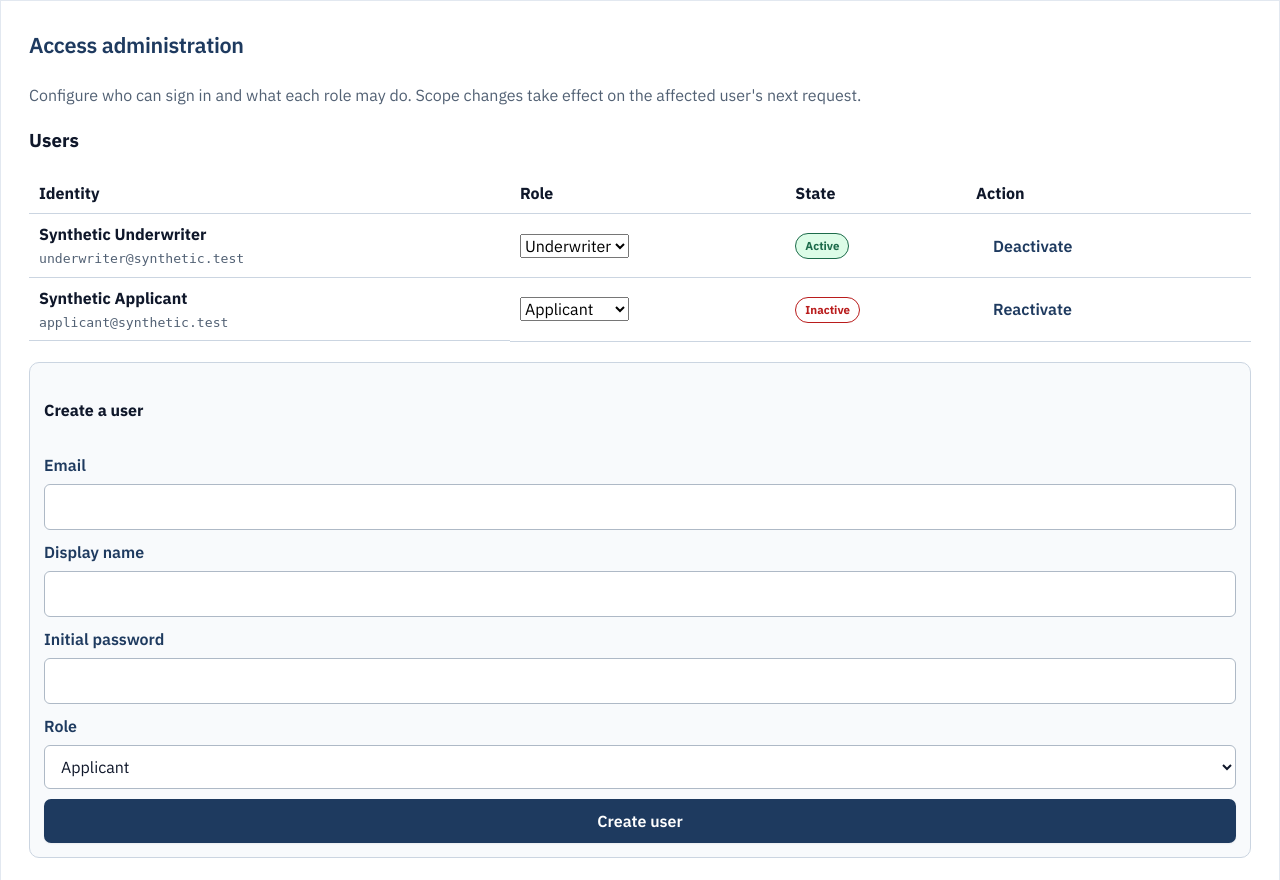
Scenario: access administration failures › announces a refused change and keeps the panel usable
Step 1. Type "reviewer@synthetic.test" into the field labelled "Email" → (640, 507), box [44, 484, 1236, 530]
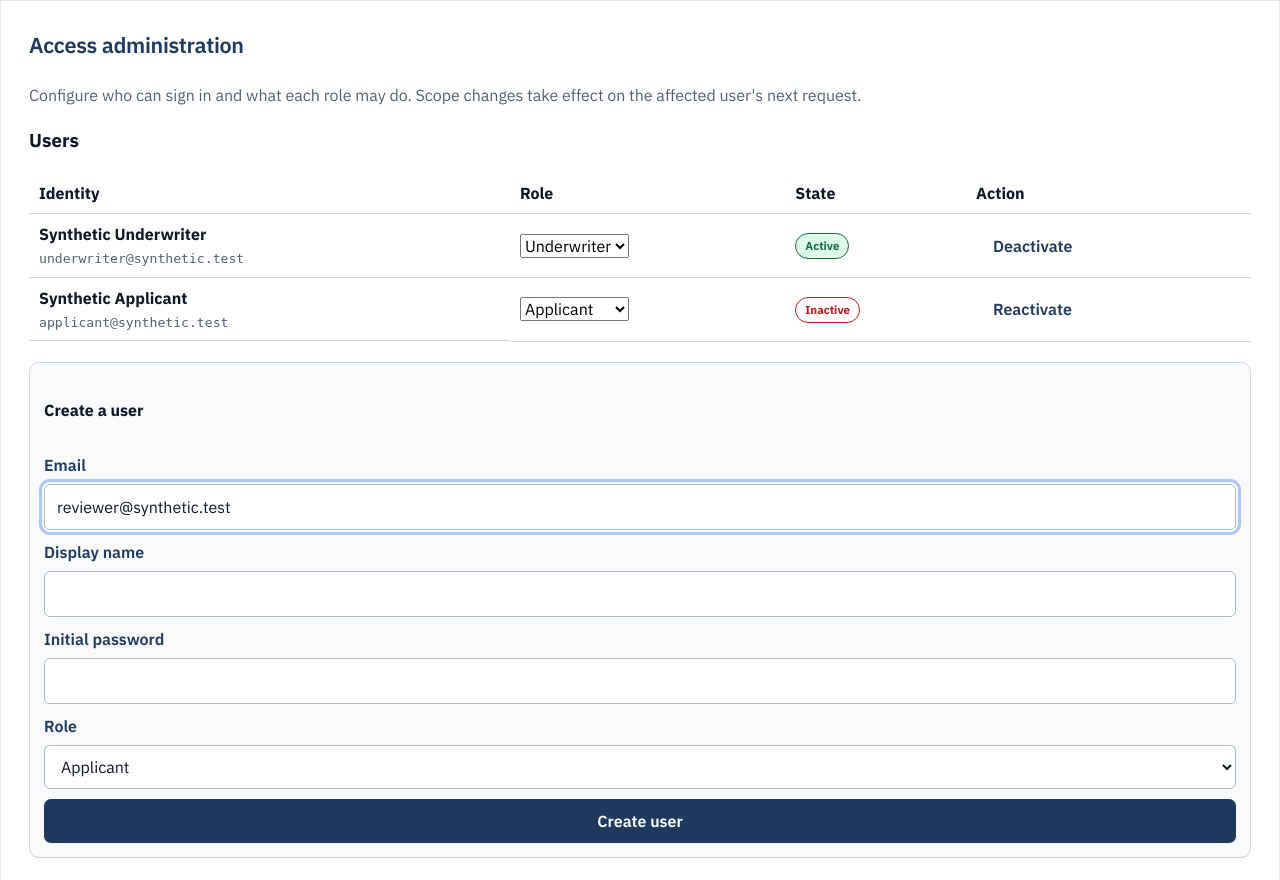
Step 2. Type "Synthetic Reviewer" into the field labelled "Display name" → (640, 594), box [44, 571, 1236, 617]
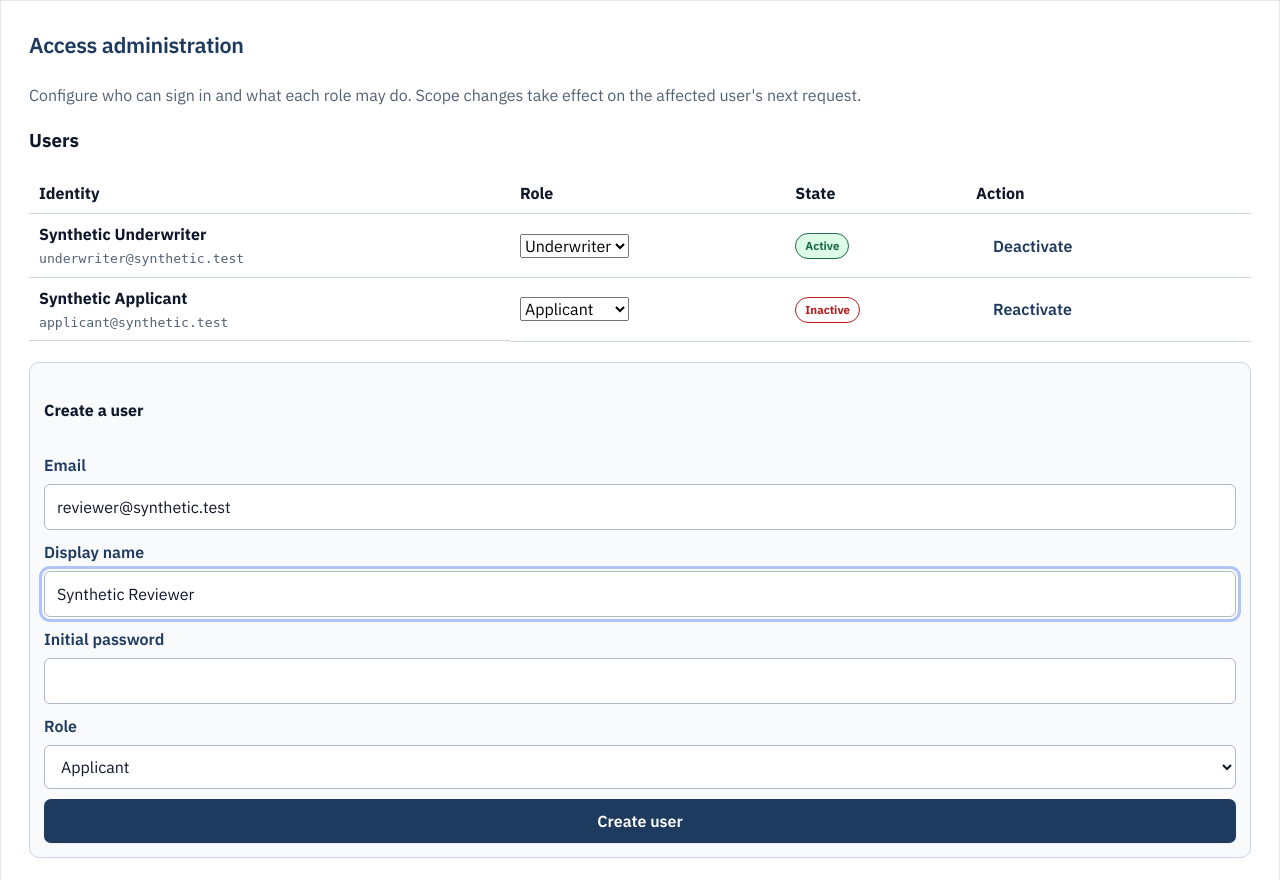
Step 3. Type "synthetic-password" into the password field labelled "Initial password" → (640, 681), box [44, 658, 1236, 704]
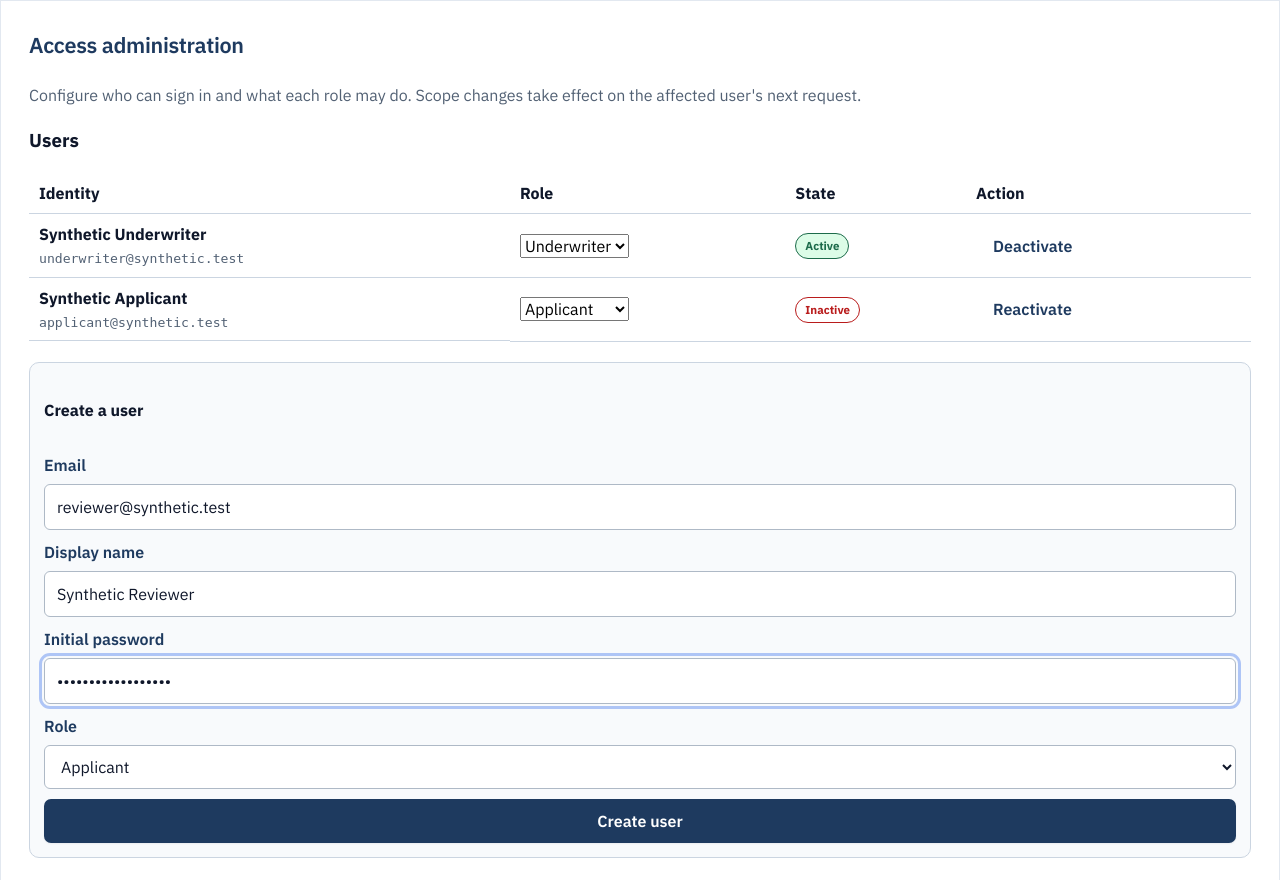
Step 4. Click the button "Create user" → (640, 821), box [44, 799, 1236, 843]
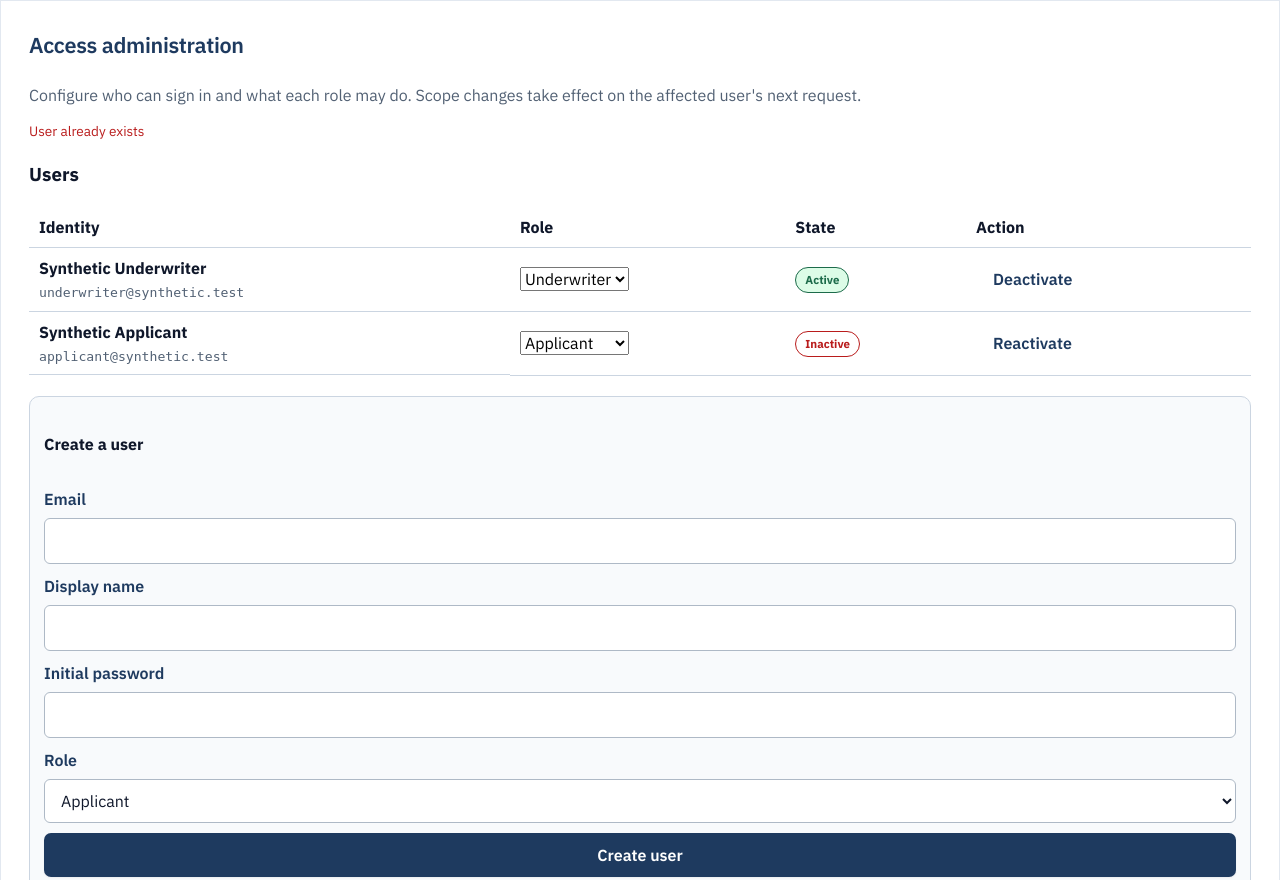
Expected: the button "Create user" is enabled, [44, 833, 1236, 877]
Expected: the message reads "User already exists", [29, 122, 144, 140]
